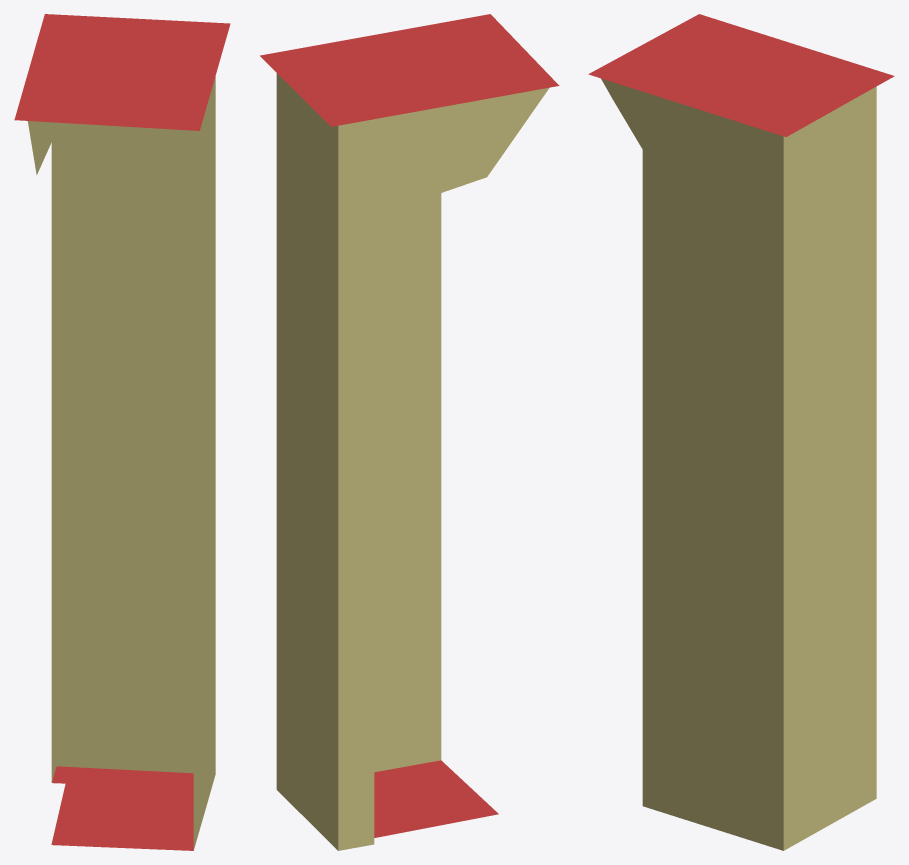
3 renders of one model, left to right at view 1: azimuth 30°, elevation 25°; view 2: azimuth 150°, elevation 25°; view 3: azimuth 270°, elevation 25°, orthographic. The views are drawn at different scales.
Visible parts, largest first — view 1: group_5, group_3, group_6; view 2: group_5, group_3, group_6; view 3: group_5, group_3.
Part boxes in pixels (box(x1,y1,x2,y2)): group_5: box(27, 76, 215, 850); group_3: box(14, 14, 230, 130); group_6: box(51, 766, 193, 850); group_5: box(276, 73, 549, 850); group_3: box(260, 14, 559, 126); group_6: box(374, 760, 498, 837); group_5: box(601, 78, 876, 850); group_3: box(588, 14, 894, 136).
Bounding box in the file's own units: 5.61 × 5.9 × 15.31.
